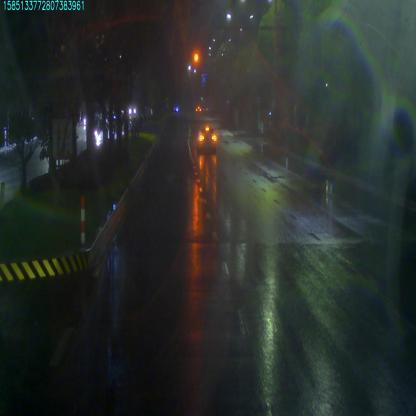traffic-light: (193, 51, 199, 60)
